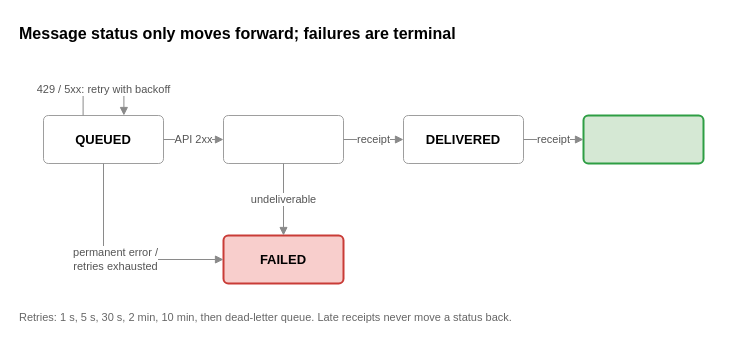
The diagram is 746 pixels wide and 346 high, and some of its shapes have lost their labels. The box of each missing label's shape, as (x1, y1, x2, y2) in pixels:
READ: (582, 114, 704, 164)
SENT: (222, 114, 344, 164)
